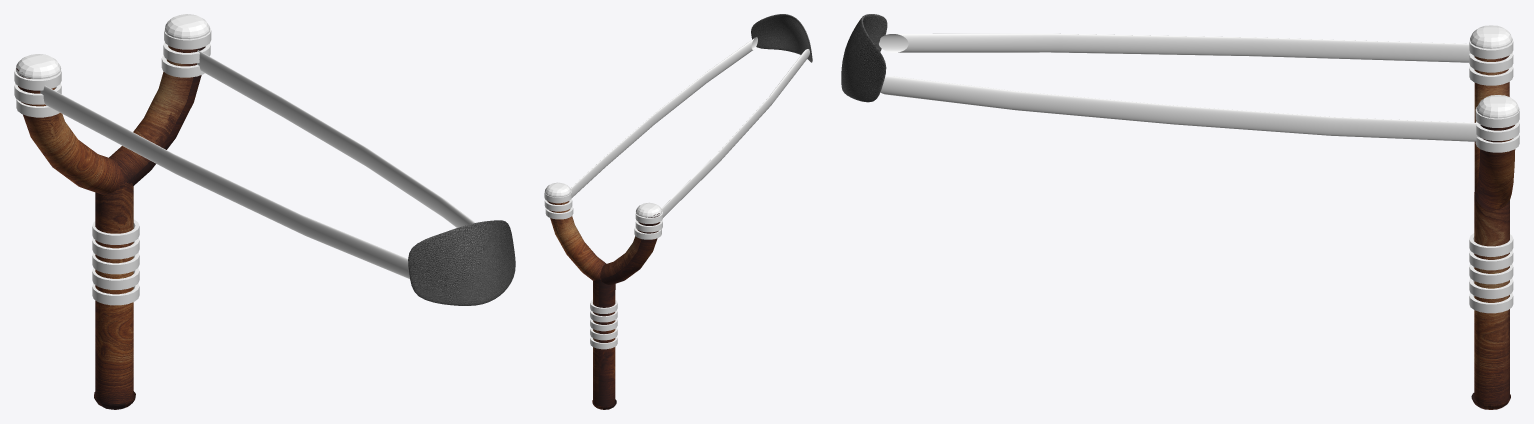
The model's file is slingshot.glb.
The picture shows the model from 3 angles, left to right: view 1: azimuth 30°, elevation 25°; view 2: azimuth 150°, elevation 25°; view 3: azimuth 270°, elevation 25°; orthographic projection. The views are drawn at different scales.
Visible parts, largest first — view 1: Cylinder005, Sling_Material #49_0, Cylinder002, Cylinder003, Cylinder004, Object001_Scene_White_0, Object002_Scene_White_0, Tube007, Tube011, Tube009, Tube010, Tube008 (+5 smaller); view 2: Cylinder005, Cylinder002, Sling_Material #49_0, Cylinder004, Cylinder003, Object002_Scene_White_0, Object001_Scene_White_0; view 3: Cylinder005, Cylinder002, Sling_Material #49_0, Cylinder004, Cylinder003, Object002_Scene_White_0, Object001_Scene_White_0.
Part boxes in pixels (<box>): Cylinder005: <box>40,50,475,278</box>; Sling_Material #49_0: <box>408,220,515,305</box>; Cylinder002: <box>95,182,133,403</box>; Cylinder003: <box>16,65,126,194</box>; Cylinder004: <box>109,45,205,185</box>; Object001_Scene_White_0: <box>16,54,61,79</box>; Object002_Scene_White_0: <box>165,14,209,39</box>; Tube007: <box>92,219,139,244</box>; Tube011: <box>92,283,139,305</box>; Tube009: <box>92,252,139,274</box>; Tube010: <box>92,268,139,289</box>; Tube008: <box>92,238,139,259</box>; Cylinder005: <box>570,37,809,217</box>; Cylinder002: <box>593,279,615,406</box>; Sling_Material #49_0: <box>751,14,812,62</box>; Cylinder004: <box>547,201,606,282</box>; Cylinder003: <box>600,213,660,284</box>; Object002_Scene_White_0: <box>545,182,571,197</box>; Object001_Scene_White_0: <box>636,202,661,217</box>; Cylinder005: <box>879,33,1480,141</box>; Cylinder002: <box>1474,192,1509,404</box>; Sling_Material #49_0: <box>841,14,887,102</box>; Cylinder004: <box>1475,125,1515,210</box>; Cylinder003: <box>1474,55,1509,194</box>; Object002_Scene_White_0: <box>1476,95,1519,118</box>; Object001_Scene_White_0: <box>1470,25,1512,49</box>.
Bounding box in the file's own units: 21.15 × 44.1 × 68.76.
7 materials, 5 textured.
